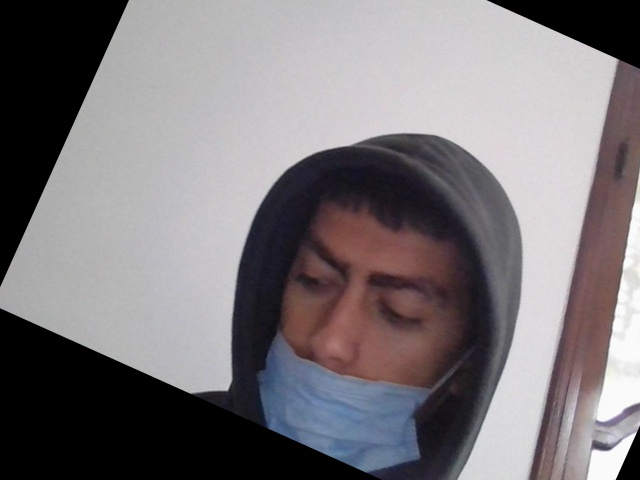mask_weared_incorrect: (243, 153, 476, 466)
